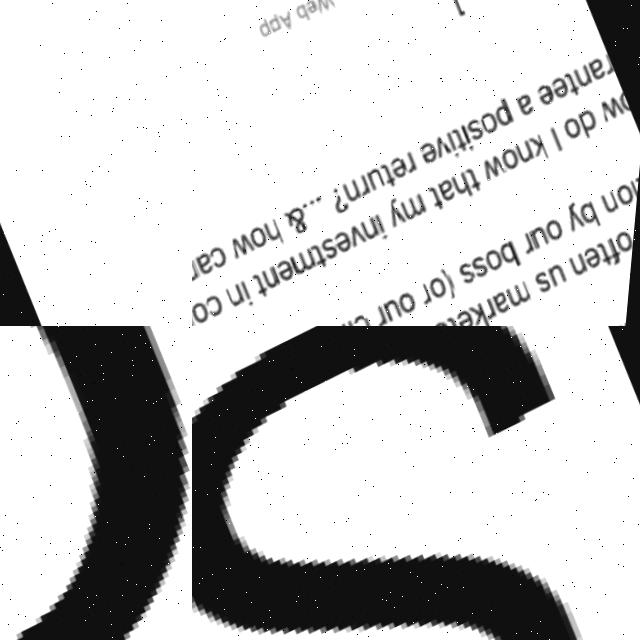A: (495, 290, 522, 320), (198, 249, 225, 279), (439, 178, 465, 206), (588, 59, 612, 85), (518, 95, 541, 122), (280, 11, 300, 34)
B: (502, 243, 531, 276), (582, 202, 609, 235), (295, 4, 315, 27)
C: (26, 326, 192, 640), (210, 293, 234, 320), (213, 245, 237, 272), (358, 313, 382, 326)
D: (579, 111, 607, 143)
E: (279, 259, 305, 287), (420, 142, 446, 170), (390, 155, 416, 183), (336, 230, 362, 257), (552, 78, 577, 104), (588, 247, 612, 273), (538, 85, 562, 111), (459, 309, 485, 326), (304, 0, 320, 16)
H: (455, 174, 482, 206), (267, 219, 294, 251)
I: (377, 213, 398, 244), (244, 280, 265, 311), (462, 124, 483, 155), (447, 133, 467, 163), (611, 239, 631, 269), (552, 128, 570, 157), (630, 182, 640, 212)
K: (531, 136, 558, 168), (475, 304, 502, 326)
L: (3, 0, 192, 326)
M: (295, 249, 326, 279), (404, 196, 434, 225), (512, 284, 542, 312)
N: (265, 266, 291, 292), (572, 255, 596, 281), (604, 192, 628, 218), (517, 142, 541, 168), (574, 67, 598, 93), (230, 283, 254, 309), (364, 218, 388, 243), (347, 181, 370, 205), (192, 259, 209, 285), (192, 306, 205, 326)
O: (431, 276, 457, 304), (402, 292, 428, 320), (488, 249, 514, 276), (564, 118, 590, 145), (502, 148, 528, 175), (194, 299, 220, 326), (549, 220, 575, 246), (253, 226, 278, 252), (482, 113, 506, 139), (617, 230, 640, 257), (618, 186, 640, 212), (620, 95, 636, 118)
P: (493, 100, 521, 132), (257, 17, 275, 39), (267, 14, 285, 35)
R: (523, 234, 544, 258), (423, 284, 442, 309), (488, 301, 507, 325), (405, 154, 424, 176), (360, 176, 378, 199), (379, 307, 397, 326), (603, 58, 619, 78)
S: (192, 326, 640, 640), (462, 262, 488, 290), (324, 235, 349, 264), (539, 273, 563, 299), (475, 256, 499, 282), (468, 120, 492, 146)
T: (469, 168, 490, 196), (316, 243, 337, 271), (566, 73, 587, 101), (454, 128, 475, 156), (384, 163, 405, 191), (602, 244, 621, 270), (433, 187, 452, 213), (258, 274, 277, 300), (454, 317, 472, 326), (638, 177, 640, 206)
U: (387, 298, 413, 326), (552, 265, 576, 291), (534, 227, 558, 253), (370, 168, 394, 194)
V: (351, 223, 377, 250), (434, 136, 459, 162)
W: (600, 97, 631, 127), (233, 232, 263, 262), (484, 155, 515, 184), (312, 0, 340, 17)
Y: (564, 204, 593, 236), (387, 198, 414, 231)
